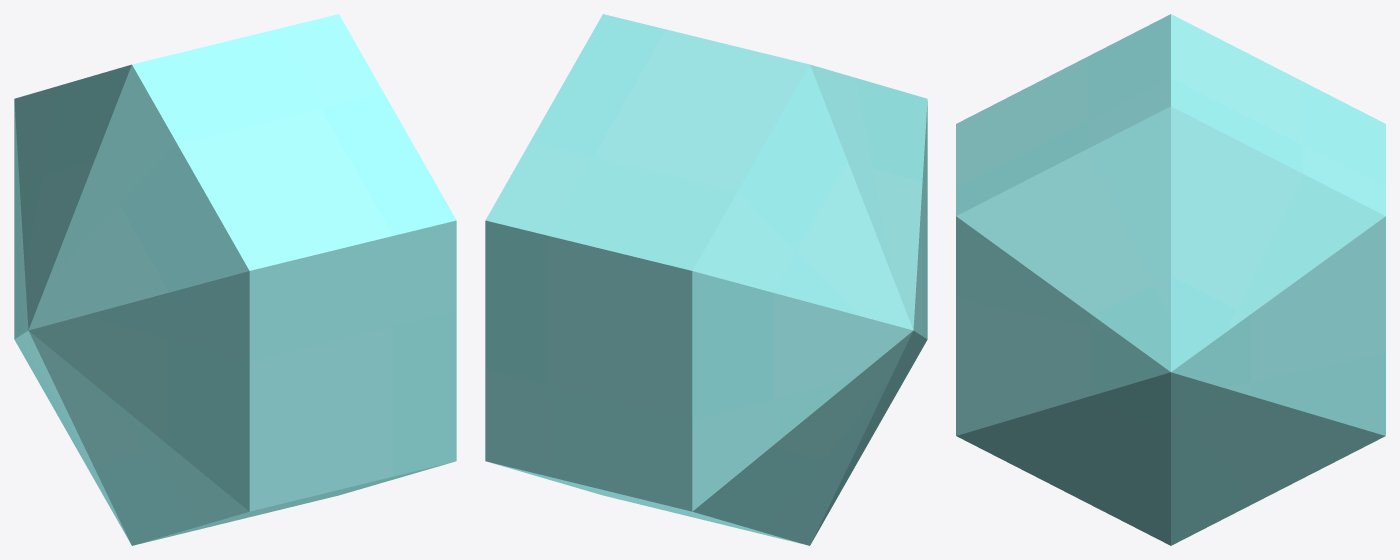
The model's file is soul_particle.gltf.
3 views of the same model, side by side, from view 1: azimuth 30°, elevation 25°; view 2: azimuth 150°, elevation 25°; view 3: azimuth 270°, elevation 25° (orthographic). The views are drawn at different scales.
Parts seen in each view (by area): view 1: Core; view 2: Core; view 3: Core.
Boxes of the visible parts, left/top/right/bottom form: Core: left=14, top=14, right=456, bottom=545; Core: left=485, top=14, right=927, bottom=545; Core: left=956, top=14, right=1385, bottom=545.
Size of the model in its own units: 0.18 by 0.2 by 0.1771.
1 material, 1 textured.
